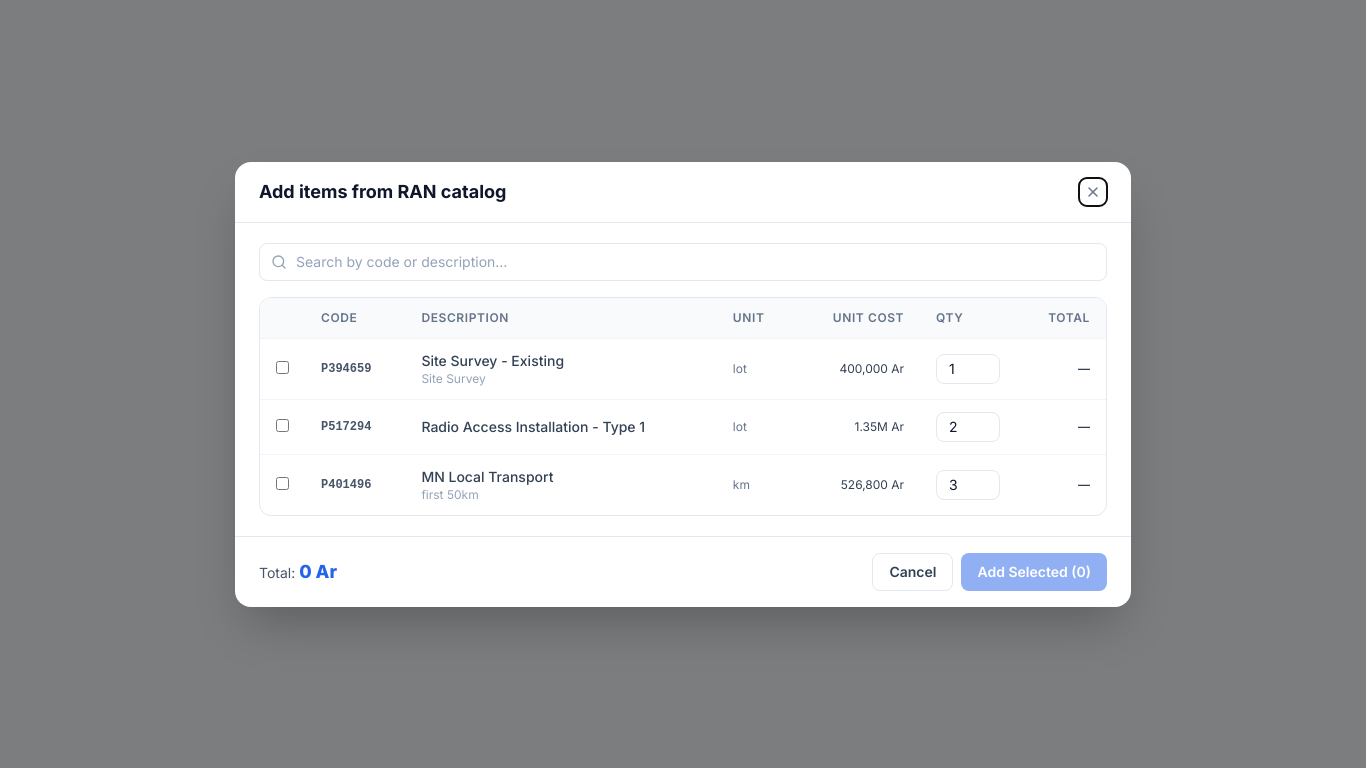
ItemPickerModal — client-side search (debounced) › filters by item_code or description, case-insensitive
The width and height of the screenshot is (1366, 768).
Check: the text "Site Survey - Existing" is shown, box [421,352,564,368]
Type "transport" into the field named "Search catalog" at [683, 262], box [259,242,1107,280]
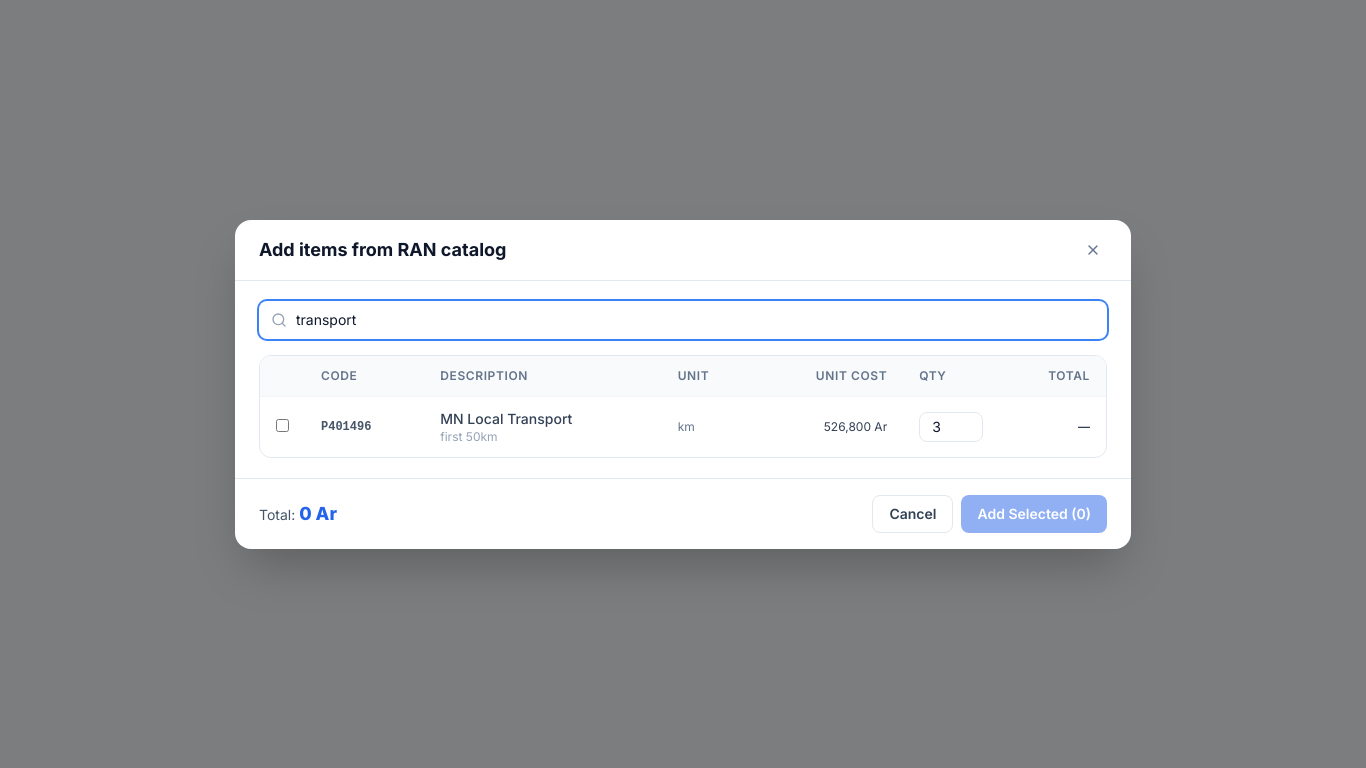
Check: the text "MN Local Transport" is shown, box [440,410,572,426]
Check: the text "Site Survey - Existing" is gone
Replace the text in the field named "Search catalog" with "p3946" at [683, 320], box [259,300,1107,338]
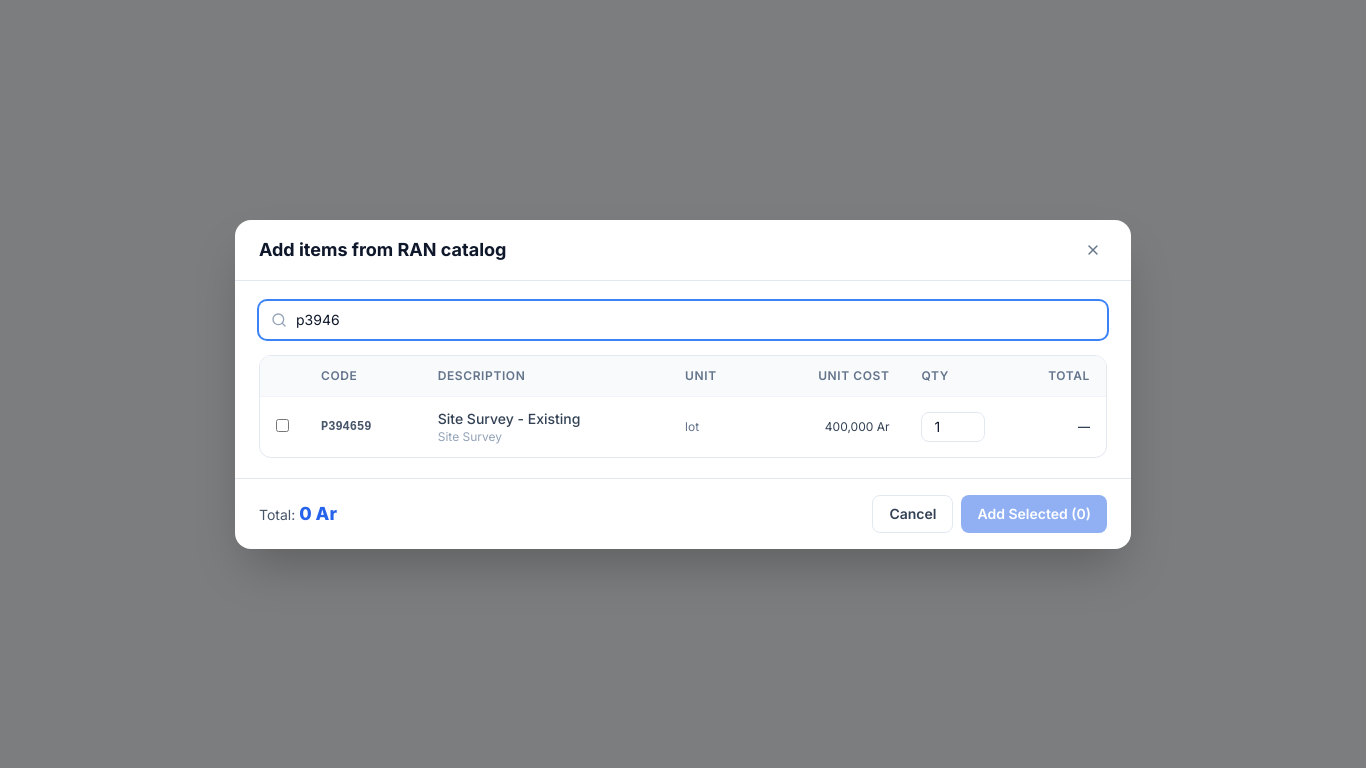
Check: the text "Site Survey - Existing" is shown, box [438,410,580,426]
Check: the text "MN Local Transport" is gone
